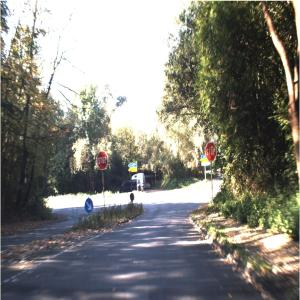STOP: (206, 143, 217, 163), (98, 152, 109, 171)
keep right: (85, 199, 94, 215)
